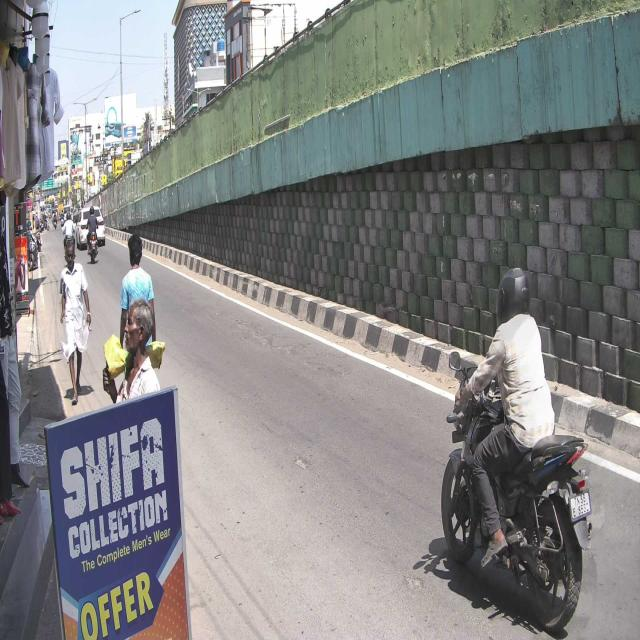single_rider: (441, 268, 589, 631)
